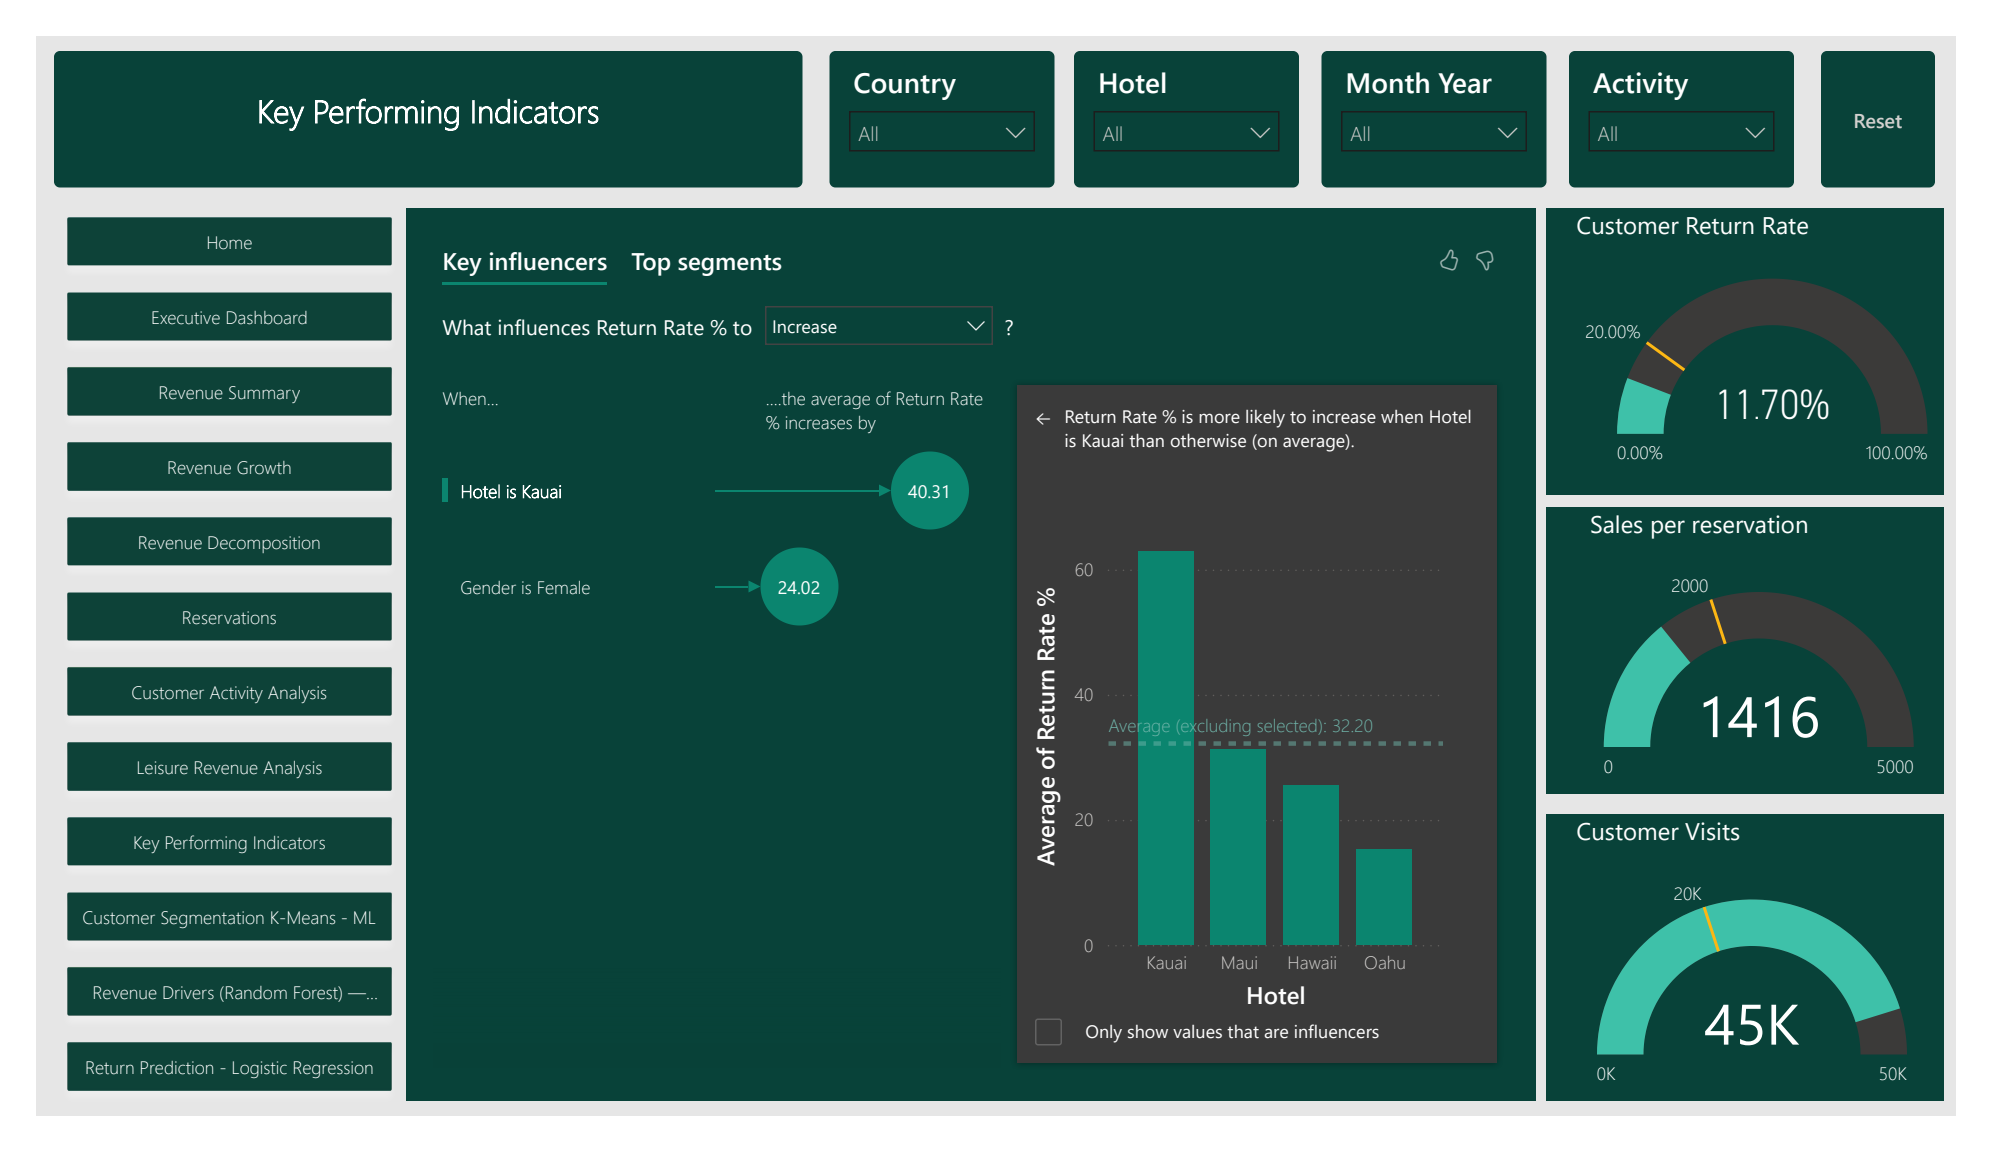

The dashboard page shown, as its layout file describes it:
{"tool":"powerbi","page":{"name":"Key Performing Indicators","canvas":[1280,720],"ordinal":8},"visuals":[{"type":"shape","box":[246.9,114.9,753.2,595.2],"z":0},{"type":"textbox","box":[11.7,9.9,499.2,90.7],"z":1000},{"type":"slicer","fields":{"Values":["Country.Country"]},"box":[528.8,9.9,150,90.7],"z":2000},{"type":"pageNavigator","box":[11.7,112.2,234.3,607.8],"z":3000},{"type":"slicer","fields":{"Values":["Hotel Visited.Hotel"]},"box":[692.2,9.9,150,90.7],"z":4000},{"type":"slicer","fields":{"Values":["Calender.MonthYear"]},"box":[857.4,9.9,150,90.7],"z":5000},{"type":"slicer","fields":{"Values":["Primary interest.Primary Interest"]},"box":[1021.6,9.9,150,90.7],"z":6000},{"type":"actionButton","box":[1189.5,9.9,76.3,90.7],"z":7000},{"type":"shape","box":[1007.3,114.9,264.8,191.2],"z":8000},{"type":"shape","box":[1007.3,314.2,264.8,191.2],"z":9000},{"type":"shape","box":[1007.3,518.9,264.8,191.2],"z":10000},{"type":"gauge","title":"Customer Return Rate","fields":{"Y":["Calculations.Return Rate"]},"box":[1021.6,114.9,244.2,191.2],"z":11000},{"type":"gauge","title":"Sales per reservation","fields":{"Y":["Calculations.Sales per reservation"]},"box":[1030.6,314.2,235.2,191.2],"z":12000},{"type":"gauge","title":"Customer Visits","fields":{"Y":["Calculations.Total Customers"]},"box":[1021.6,518.9,244.2,191.2],"z":13000},{"type":"keyDriversVisual","title":"Key Inf","fields":{"ExplainBy":["Age.Age Group","Country.Country","Hotel Visited.Hotel","Gender.Gender"],"Target":["Calculations.Return Rate %"]},"box":[254.1,125.7,737.1,572.8],"z":13001}]}

Visuals, with their boxes in screenshot pixels (x1, y1, x2, y2), scaled from the page's 1280x720 canvas onto the 1992x1152 screenshot:
shape: [384,184,1556,1136]
textbox: [18,16,795,161]
slicer - Country.Country: [823,16,1056,161]
pageNavigator: [18,180,383,1151]
slicer - Hotel Visited.Hotel: [1077,16,1311,161]
slicer - Calender.MonthYear: [1334,16,1568,161]
slicer - Primary interest.Primary Interest: [1590,16,1823,161]
actionButton: [1851,16,1970,161]
shape: [1568,184,1980,490]
shape: [1568,503,1980,809]
shape: [1568,830,1980,1136]
"Customer Return Rate" gauge: [1590,184,1970,490]
"Sales per reservation" gauge: [1604,503,1970,809]
"Customer Visits" gauge: [1590,830,1970,1136]
"Key Inf" keyDriversVisual: [395,201,1543,1118]
